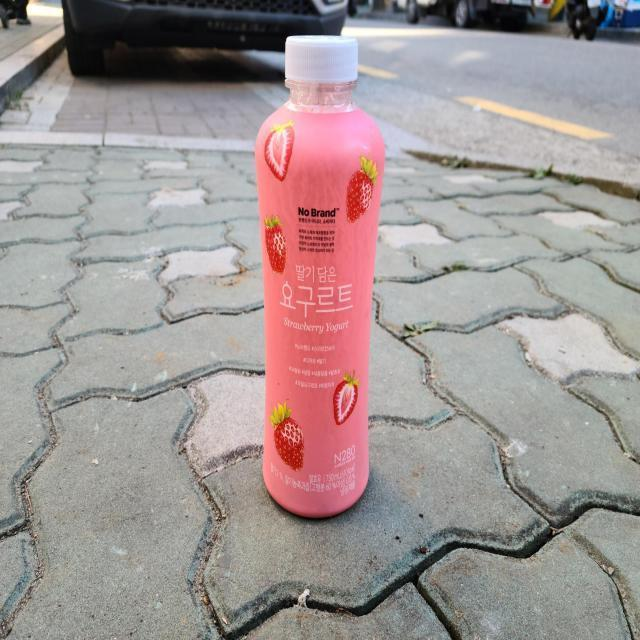plastic_bottle: (255, 34, 386, 520)
